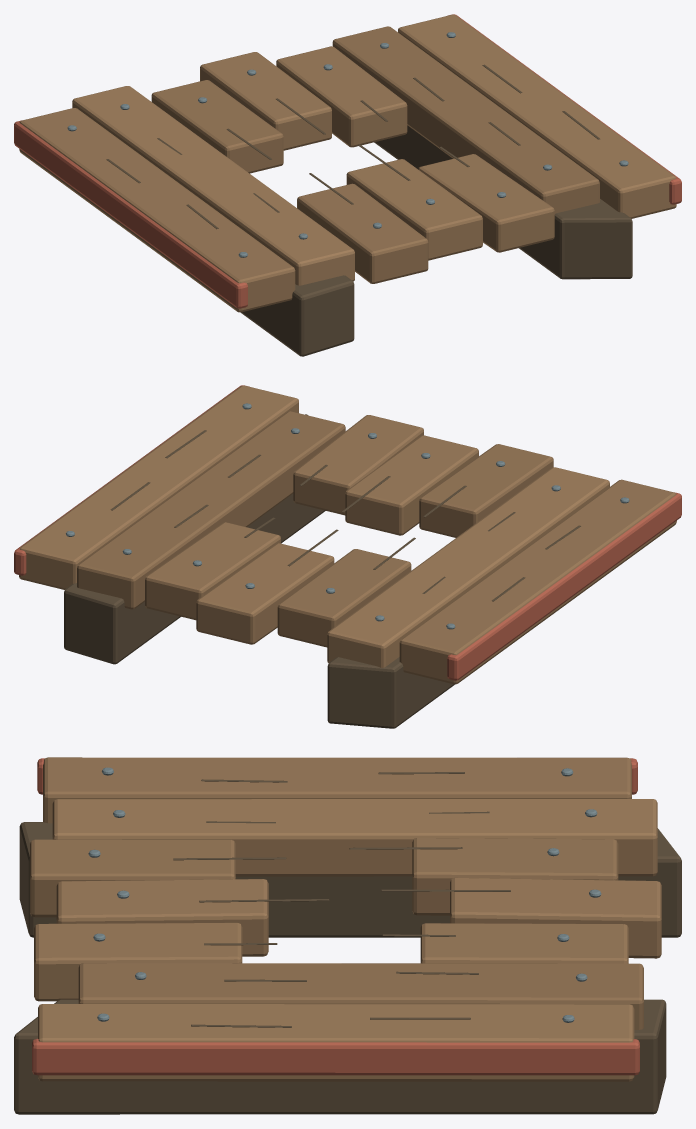
Rendered from deck-damaged-2.glb.
3 renders of one model, top to bottom at view 1: azimuth 30°, elevation 25°; view 2: azimuth 150°, elevation 25°; view 3: azimuth 270°, elevation 25°, orthographic. The views are drawn at different scales.
Parts seen in each view (by area): view 1: GEO-deck-damaged-540.001, GEO-deck-damaged-864.001, GEO-deck-damaged-108.001, GEO-deck-damaged-1148.001; view 2: GEO-deck-damaged-540.001, GEO-deck-damaged-864.001, GEO-deck-damaged-108.001, GEO-deck-damaged-1148.001; view 3: GEO-deck-damaged-540.001, GEO-deck-damaged-864.001, GEO-deck-damaged-108.001, GEO-deck-damaged-1148.001.
Boxes of the visible parts, x1,y1,x2,y2 form: GEO-deck-damaged-540.001: (19, 14, 676, 312); GEO-deck-damaged-864.001: (106, 64, 632, 356); GEO-deck-damaged-108.001: (14, 14, 681, 308); GEO-deck-damaged-1148.001: (67, 32, 628, 257); GEO-deck-damaged-540.001: (19, 385, 676, 684); GEO-deck-damaged-864.001: (64, 414, 580, 728); GEO-deck-damaged-108.001: (14, 385, 681, 680); GEO-deck-damaged-1148.001: (66, 403, 629, 629); GEO-deck-damaged-540.001: (30, 757, 661, 1081); GEO-deck-damaged-864.001: (14, 772, 681, 1114); GEO-deck-damaged-108.001: (32, 758, 639, 1075); GEO-deck-damaged-1148.001: (88, 767, 601, 1022).
Bounding box in the file's own units: 2.28 × 0.4391 × 2.23.
